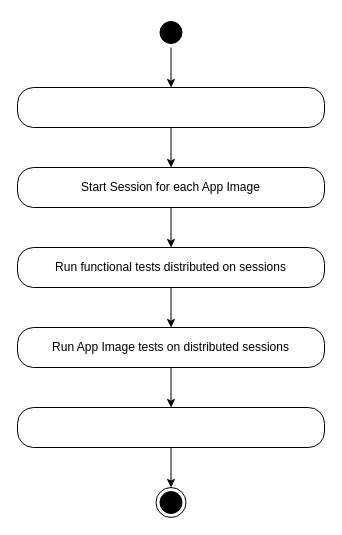
The diagram is 342 pixels wide and 535 high, and some of its shapes have lost their labels. Each missing label, with the centre of its shape:
"Run artemis integration test" goes at (x=170, y=427).
"Save Keycloak Browser State" goes at (x=170, y=107).
